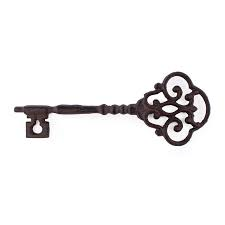key: (11, 70, 214, 146)
